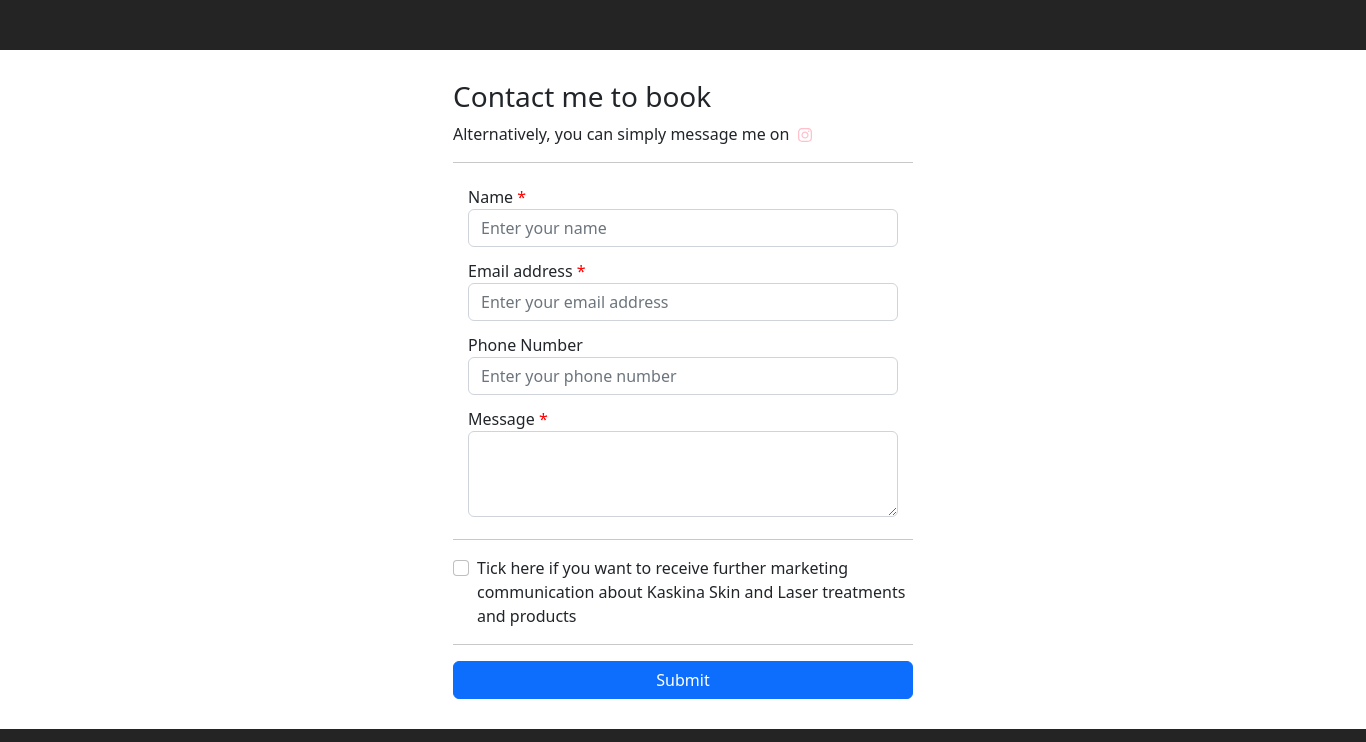
Scenario: ContactForm › submitting without proper inputs will result in validation
Click the button with test id "submit-button" at point(683, 680), box [453, 661, 913, 699]
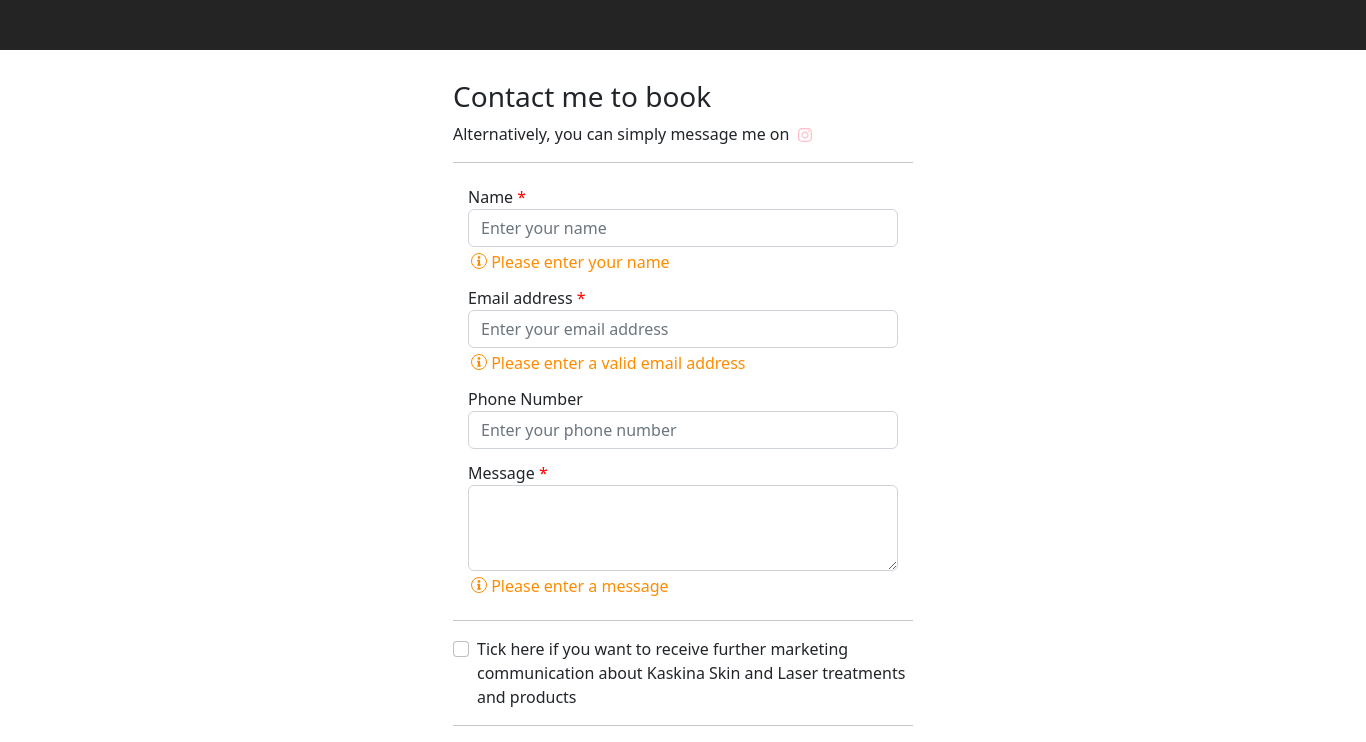
Result: the element with test id "name-validation" is shown at [471, 251, 670, 273]
